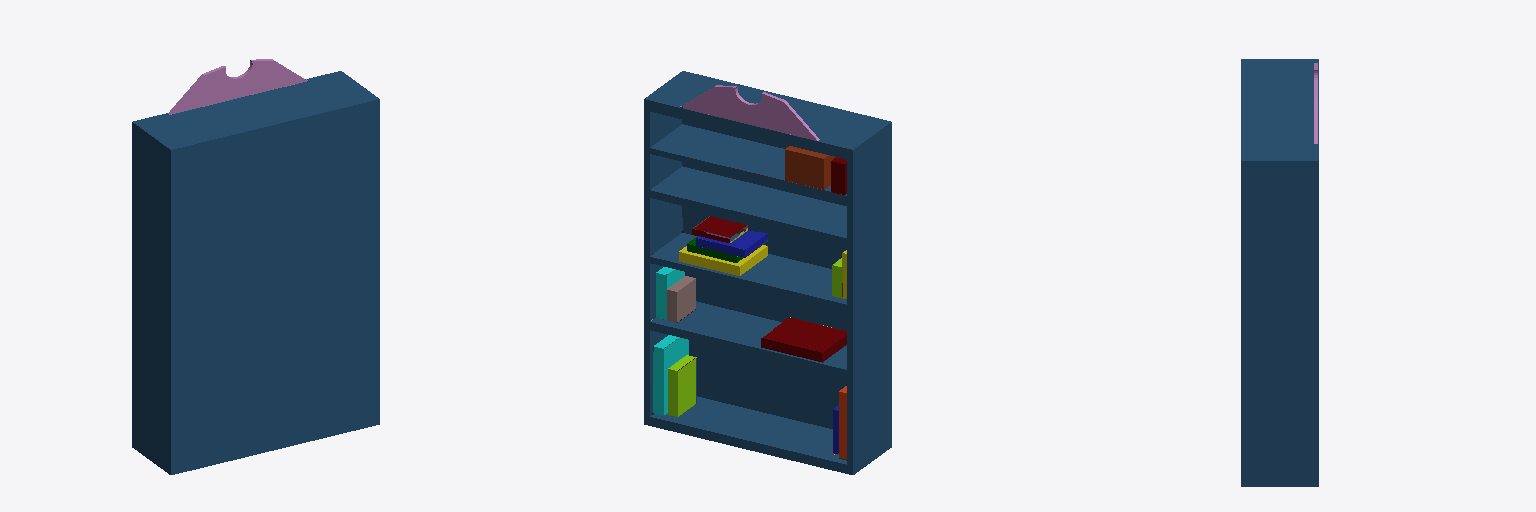
3 renders of one model, left to right at view 1: azimuth 30°, elevation 25°; view 2: azimuth 150°, elevation 25°; view 3: azimuth 270°, elevation 25°, orthographic.
Visible parts, largest first — view 1: Cube.016_Cube.035; view 2: Cube.016_Cube.035; view 3: Cube.016_Cube.035.
Part boxes in pixels (left/top/right/bottom): Cube.016_Cube.035: left=132, top=59, right=379, bottom=474; Cube.016_Cube.035: left=644, top=71, right=891, bottom=474; Cube.016_Cube.035: left=1241, top=59, right=1318, bottom=486.
Bounding box in the file's own units: 14 × 23 × 4.5.
1 materials, 1 textured.